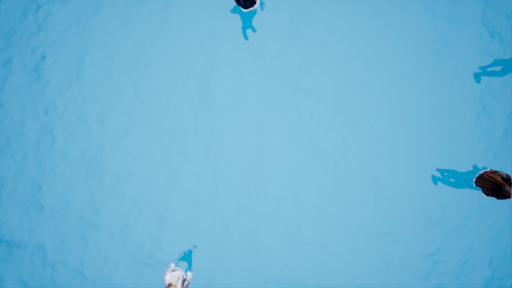person: (433, 163, 512, 204), (166, 244, 204, 288)
